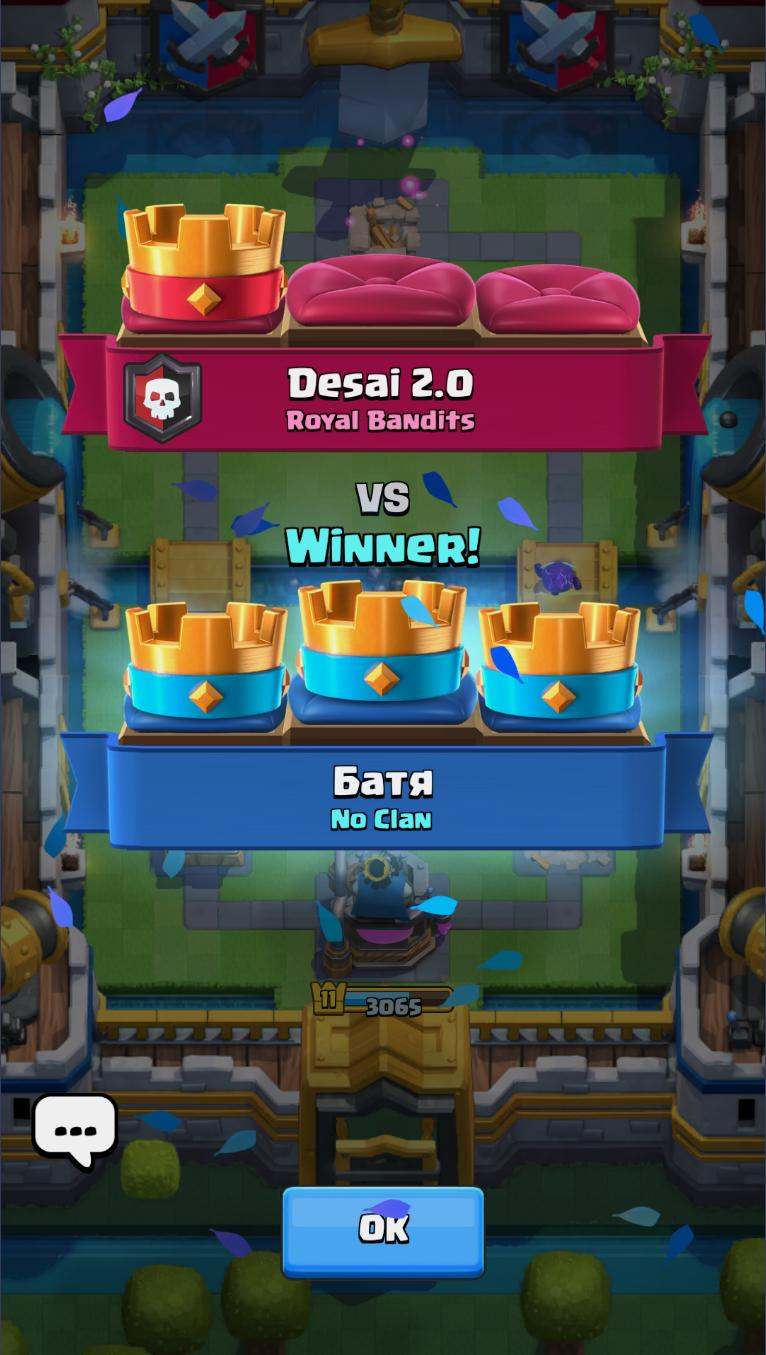KingTowerBrocken: (311, 171, 454, 261)
MyKingHP: (309, 979, 455, 1019)
MyKingTower: (320, 850, 452, 980)
Win_3-1: (58, 202, 711, 852)
